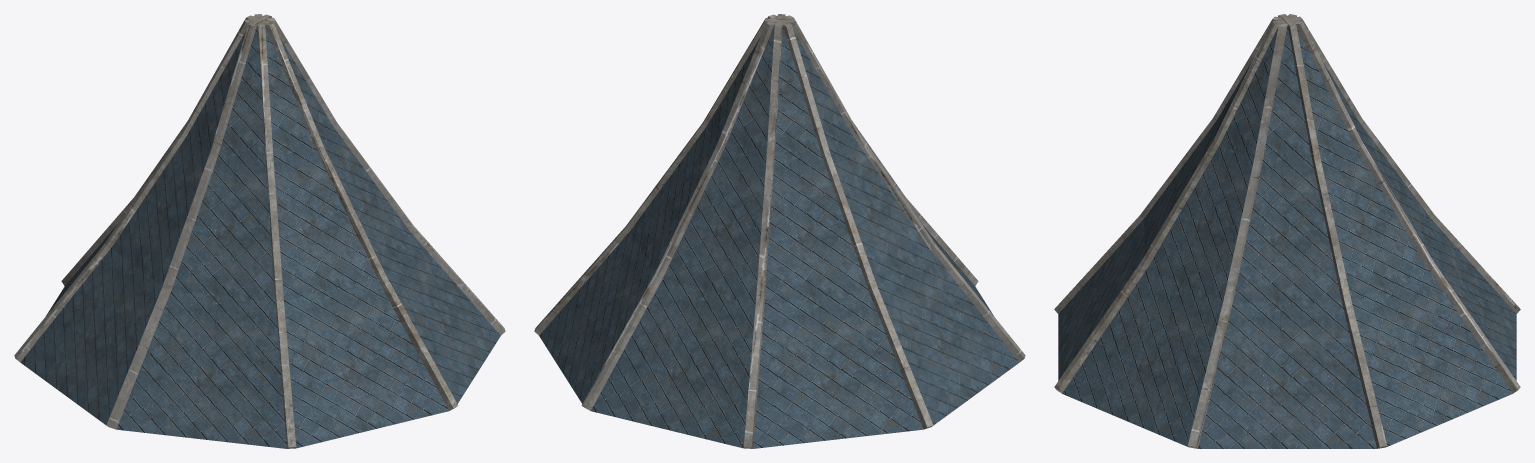
The model's file is bg_lut_lucastle_churchroof04_sm_ksh.FBX.
The picture shows the model from 3 angles, left to right: view 1: azimuth 30°, elevation 25°; view 2: azimuth 150°, elevation 25°; view 3: azimuth 270°, elevation 25°; orthographic projection.
Parts seen in each view (by area): view 1: bg_lut_lucastle_churchroof04_sm_ksh; view 2: bg_lut_lucastle_churchroof04_sm_ksh; view 3: bg_lut_lucastle_churchroof04_sm_ksh.
Boxes of the visible parts, x1,y1,x2,y2 form: bg_lut_lucastle_churchroof04_sm_ksh: (14, 14, 505, 448); bg_lut_lucastle_churchroof04_sm_ksh: (534, 14, 1025, 448); bg_lut_lucastle_churchroof04_sm_ksh: (1054, 14, 1520, 448).
Size of the model in its own units: 1002 by 786 by 1002.
